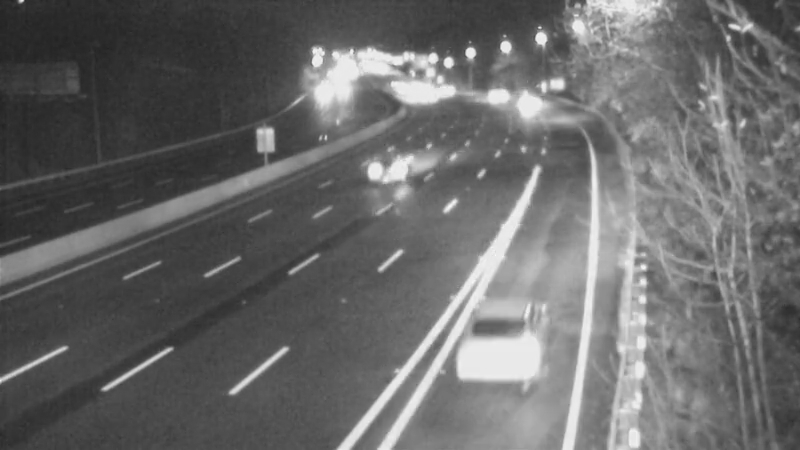vehicle: (442, 298, 552, 408), (347, 129, 427, 209), (469, 66, 519, 116), (500, 73, 550, 123)
